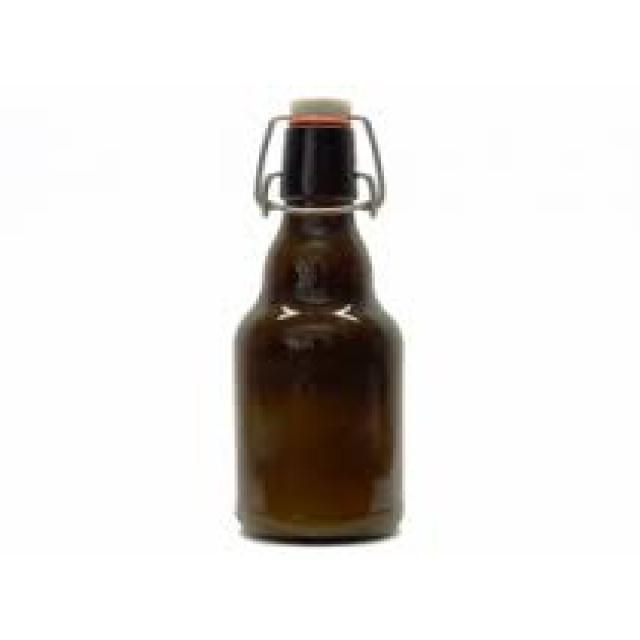Glass: (232, 124, 406, 545)
